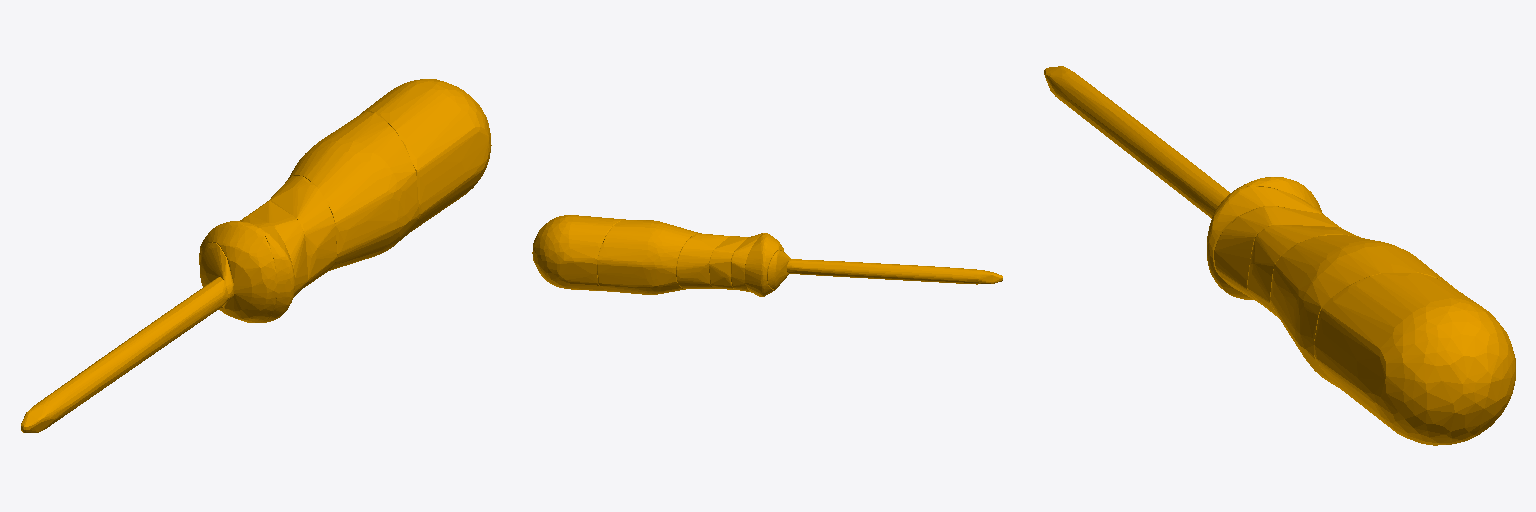
The robot description file, URDF, robot "043_phillips_screwdriver":
<?xml version="1.0" encoding="UTF-8"?>
<robot name="043_phillips_screwdriver">
	<link name="base">
		<collision>
			<geometry>
				<mesh filename="..\vhacd\043_phillips_screwdriver_vhacd.obj" scale="1.0 1.0 1.0"/>
			</geometry>
			<origin xyz="0 0 0"/>
			<contact_coefficients mu="0.24" />
		</collision>
		<visual>
			<geometry>
				<mesh filename="..\vhacd\043_phillips_screwdriver_vhacd.obj" scale="1.0 1.0 1.0"/>
			</geometry>
			<origin xyz="0 0 0"/>
		</visual>
		<inertial>
			<mass value="0"/>
			<inertia ixx="0.0" ixy="-0.0" ixz="-0.0" iyy="0.0" iyz="-0.0" izz="0.0" />
			<origin xyz="0.0026626281142232734 0.022223869512510406 0.016372275541700333"/>
		</inertial>
	</link>
</robot>

--- Render facts (derived) ---
Views: 3 orthographic renders of the robot side by side, from view 1: azimuth 30°, elevation 25°; view 2: azimuth 150°, elevation 25°; view 3: azimuth 270°, elevation 25°.
Robot: 043_phillips_screwdriver — 1 links, 0 joints (none); root link base; default pose: every joint at zero.
Links seen in each view (by area): view 1: base; view 2: base; view 3: base.
Boxes of the visible links, x1,y1,x2,y2 form: base: [21, 79, 491, 432]; base: [532, 215, 1002, 296]; base: [1044, 66, 1515, 445].
Size in the robot's own frame: 0.1951 by 0.1071 by 0.0356 metres.
Meshes: 1 distinct files referenced, 1 mesh visuals loaded (1 OBJ).